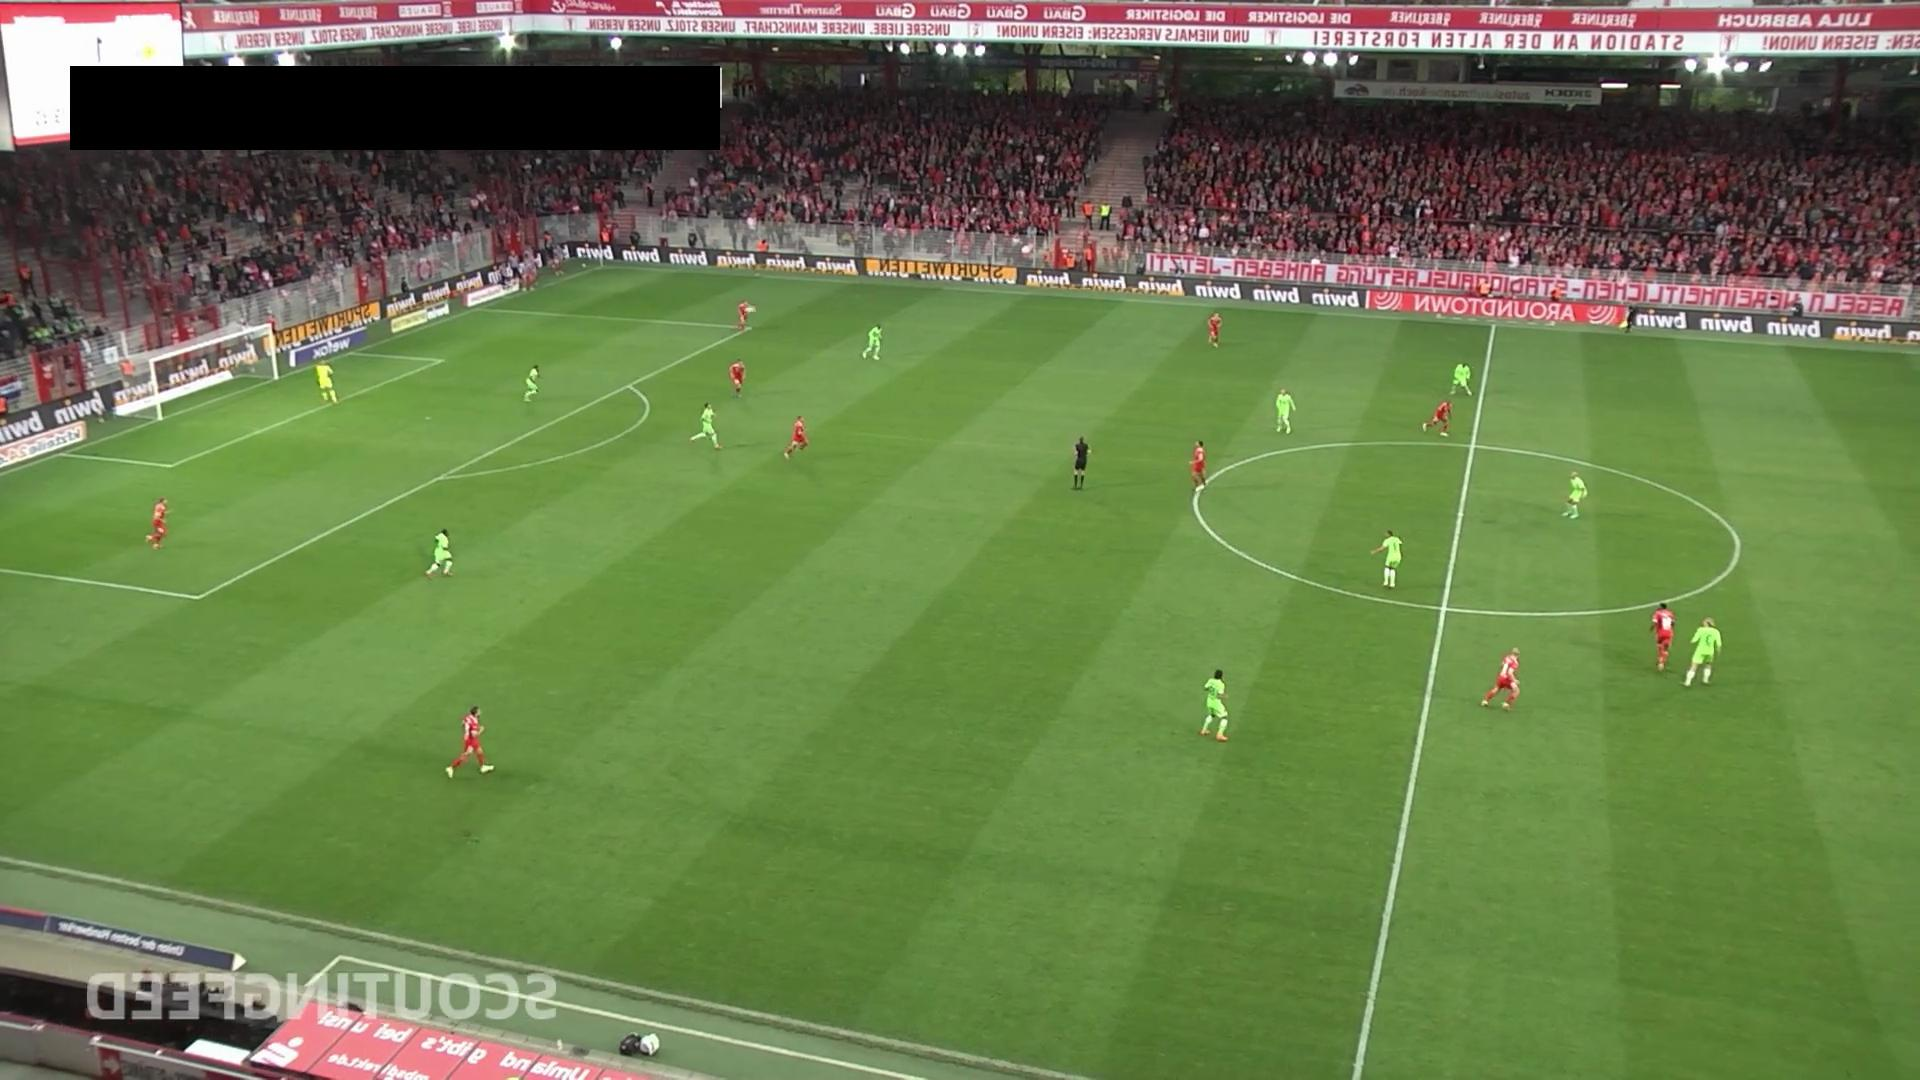goalkeeper: (313, 357, 339, 407)
player: (445, 705, 494, 779), (1681, 615, 1722, 687), (1481, 647, 1521, 711), (1198, 668, 1229, 741), (1648, 601, 1677, 673), (1369, 528, 1403, 588), (691, 401, 725, 449), (425, 528, 454, 578), (1561, 469, 1588, 519), (146, 497, 170, 550), (1422, 399, 1452, 436), (784, 415, 809, 458), (1274, 386, 1296, 434), (1188, 441, 1208, 491), (521, 363, 542, 404), (861, 323, 883, 360), (1450, 361, 1473, 396), (735, 300, 756, 334), (729, 359, 746, 397), (1207, 312, 1223, 348)
referee: (1071, 436, 1090, 490), (1619, 301, 1637, 335)
